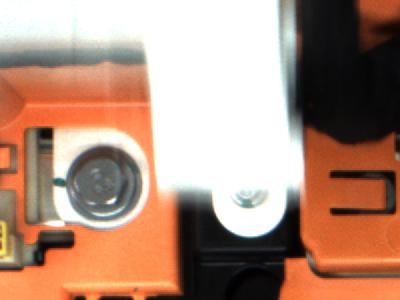nut_b: (68, 148, 143, 223)
